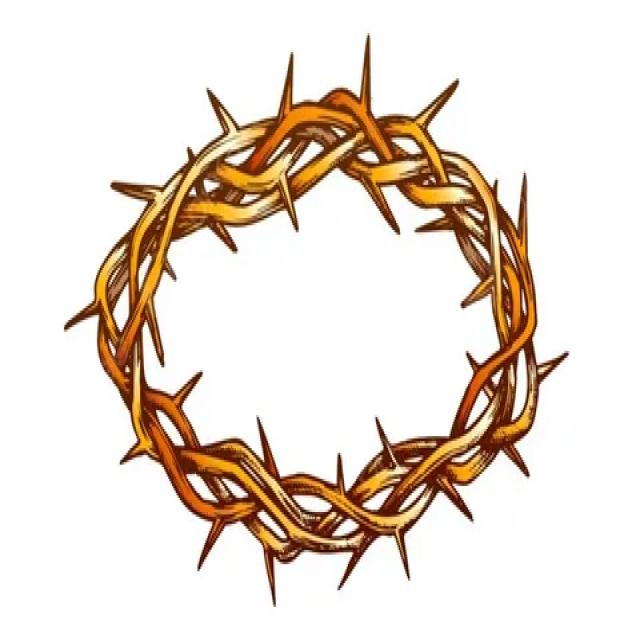crown: (77, 69, 556, 578)
